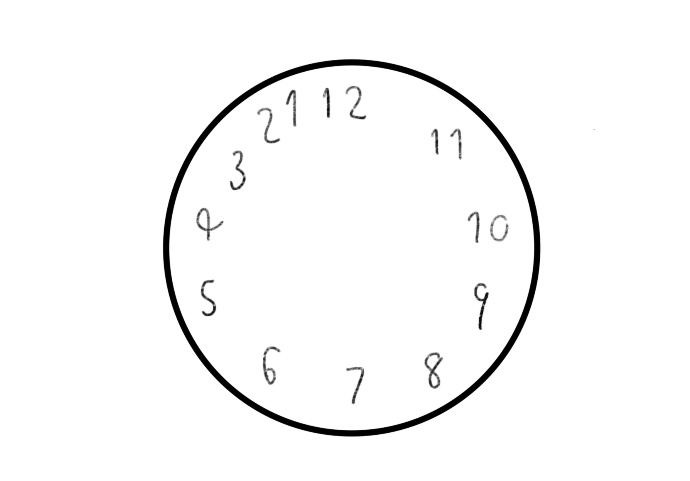eight: (424, 349, 445, 391)
eleven: (427, 124, 465, 165)
five: (200, 275, 220, 322)
four: (195, 206, 223, 247)
nine: (470, 280, 492, 331)
one: (285, 86, 302, 127)
seven: (343, 361, 367, 407)
six: (260, 342, 285, 389)
ten: (466, 203, 509, 245)
three: (226, 147, 248, 193)
twelve: (318, 85, 369, 121)
two: (255, 105, 284, 145)
